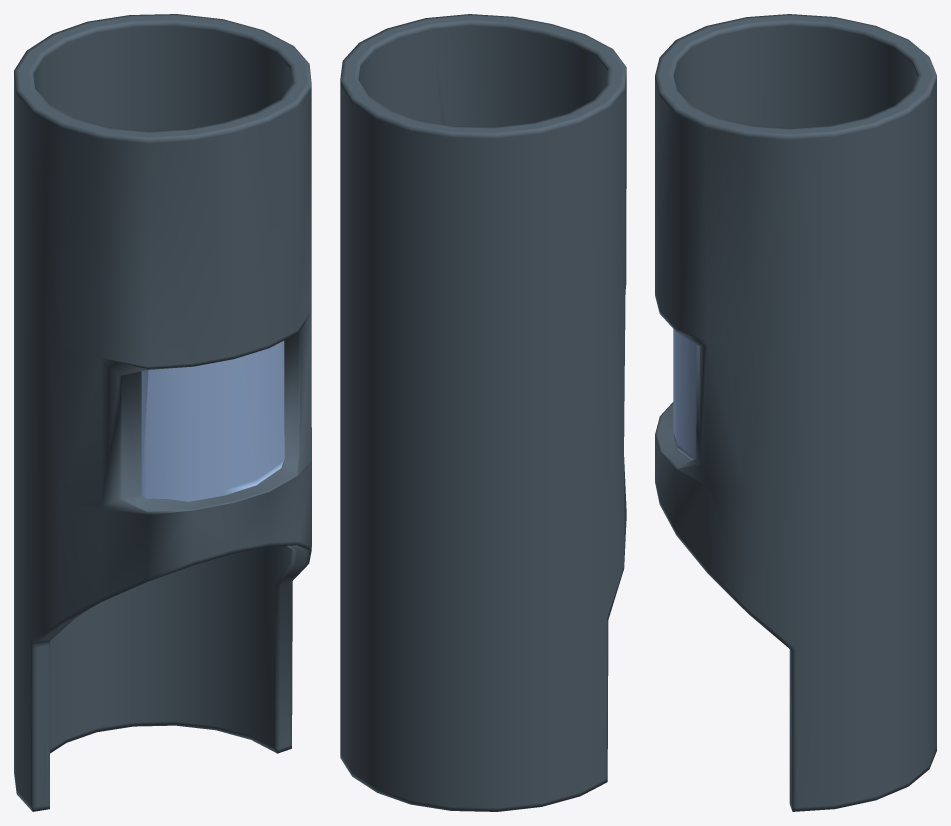
File: tubePropV3.fbx
3 renders of one model, left to right at view 1: azimuth 30°, elevation 25°; view 2: azimuth 150°, elevation 25°; view 3: azimuth 270°, elevation 25°, orthographic. The views are drawn at different scales.
Parts seen in each view (by area): view 1: Cylinder004; view 2: Cylinder004; view 3: Cylinder004.
Boxes of the visible parts, x1,y1,x2,y2 form: Cylinder004: [14, 14, 311, 811]; Cylinder004: [340, 14, 626, 811]; Cylinder004: [655, 14, 936, 811].
Bounding box in the file's own units: 161 × 416 × 157.
